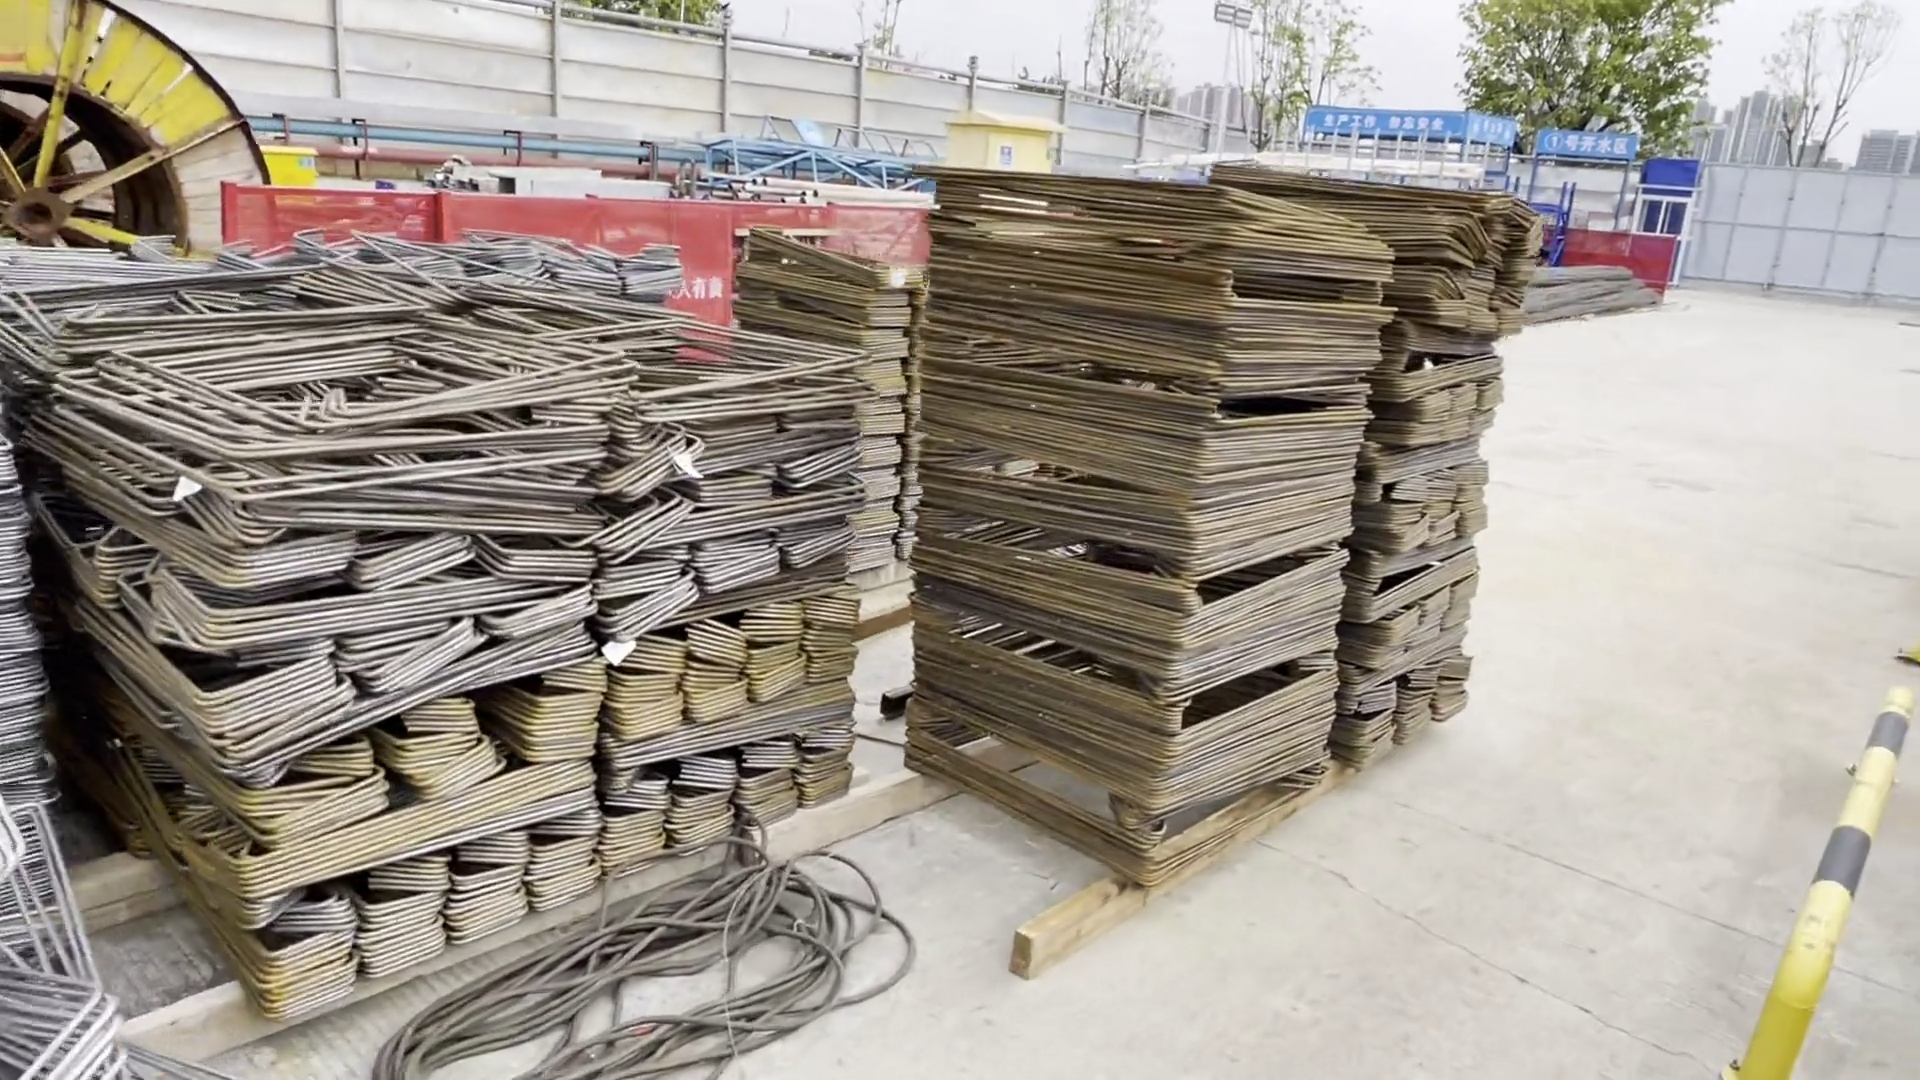ebox: (949, 107, 1055, 177)
fence: (225, 185, 940, 309), (1560, 222, 1673, 291)
rebar: (1516, 262, 1640, 313)
slogan: (1303, 105, 1514, 150)
